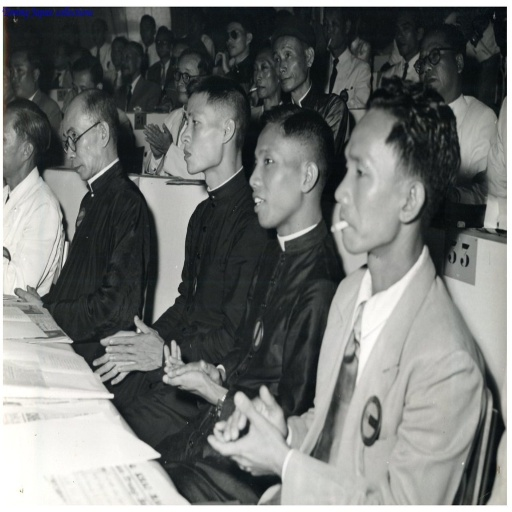hand: (213, 383, 289, 443), (103, 312, 162, 371), (161, 337, 213, 398), (92, 328, 130, 383), (163, 352, 219, 378), (142, 121, 173, 150), (14, 282, 44, 308), (148, 121, 163, 157), (213, 49, 230, 72)
